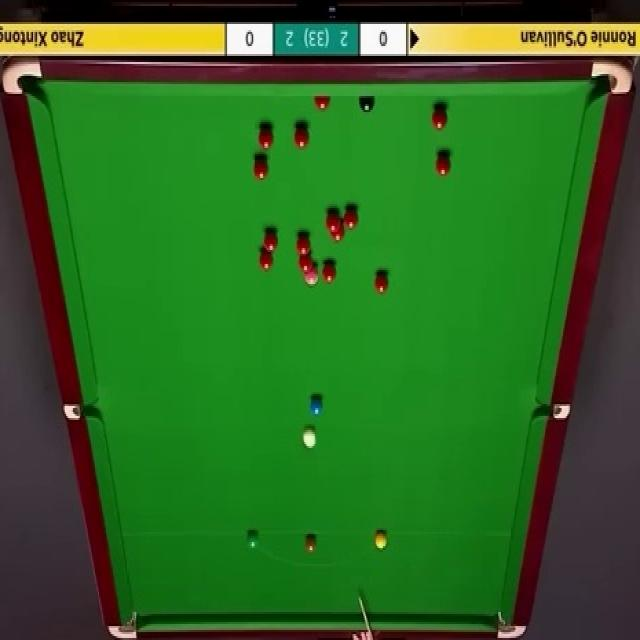black-ball: (358, 96, 374, 112)
blue-ball: (310, 398, 324, 415)
brown-ball: (305, 534, 316, 552)
green-ball: (245, 530, 260, 552)
pink-ball: (304, 266, 319, 286)
red-ball: (253, 155, 270, 180), (294, 232, 311, 256), (431, 106, 448, 129), (434, 156, 452, 177), (258, 126, 273, 150), (321, 262, 339, 282), (344, 207, 359, 231), (292, 132, 308, 154), (374, 274, 389, 297), (263, 230, 278, 253), (259, 250, 273, 272), (331, 222, 344, 242), (326, 212, 339, 232), (313, 97, 331, 111), (298, 255, 312, 273)
white-ball: (302, 426, 317, 450)
yellow-ball: (375, 530, 387, 550)
